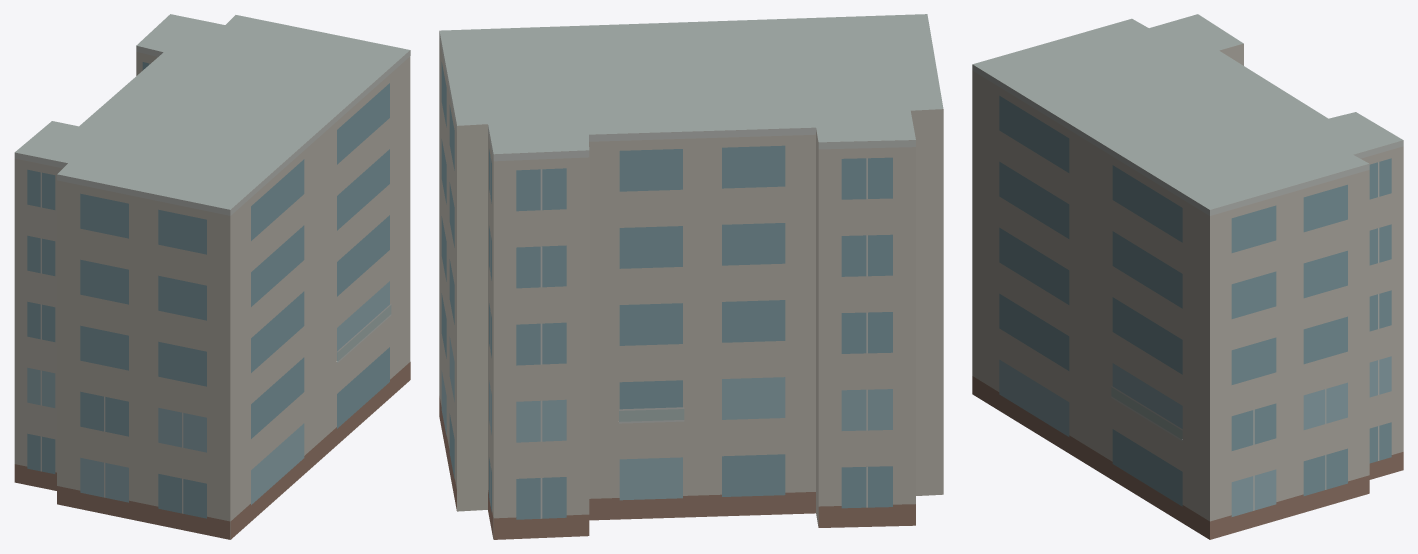
Rendered from survey-upis-32887733.glb.
3 renders of one model, left to right at view 1: azimuth 30°, elevation 25°; view 2: azimuth 150°, elevation 25°; view 3: azimuth 270°, elevation 25°, orthographic. The views are drawn at different scales.
Visible parts, largest first — view 1: survey-upis-32887733.tmp; view 2: survey-upis-32887733.tmp; view 3: survey-upis-32887733.tmp.
Part boxes in pixels (<box>): survey-upis-32887733.tmp: <box>14,14,410,539</box>; survey-upis-32887733.tmp: <box>439,14,943,539</box>; survey-upis-32887733.tmp: <box>972,14,1403,539</box>.
Bounding box in the file's own units: 16.83 × 13.2 × 15.65.
